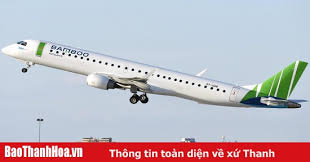maybay_dansu: (4, 31, 310, 111)
